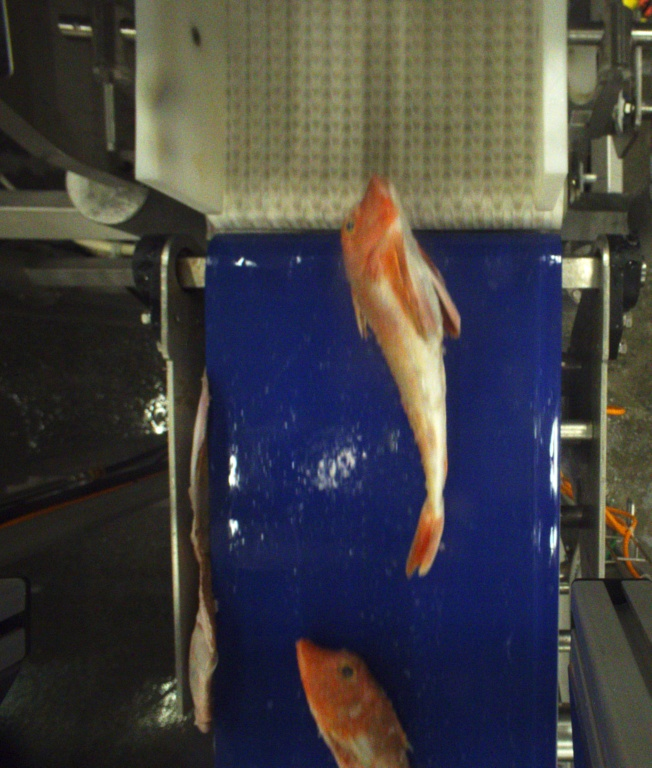GUU: (339, 175, 461, 577)
